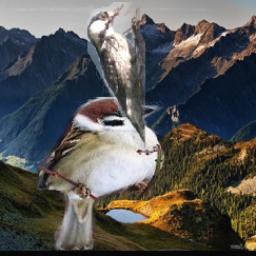Sparrow: (36, 98, 164, 251)
Woodpecker: (86, 3, 144, 150)
